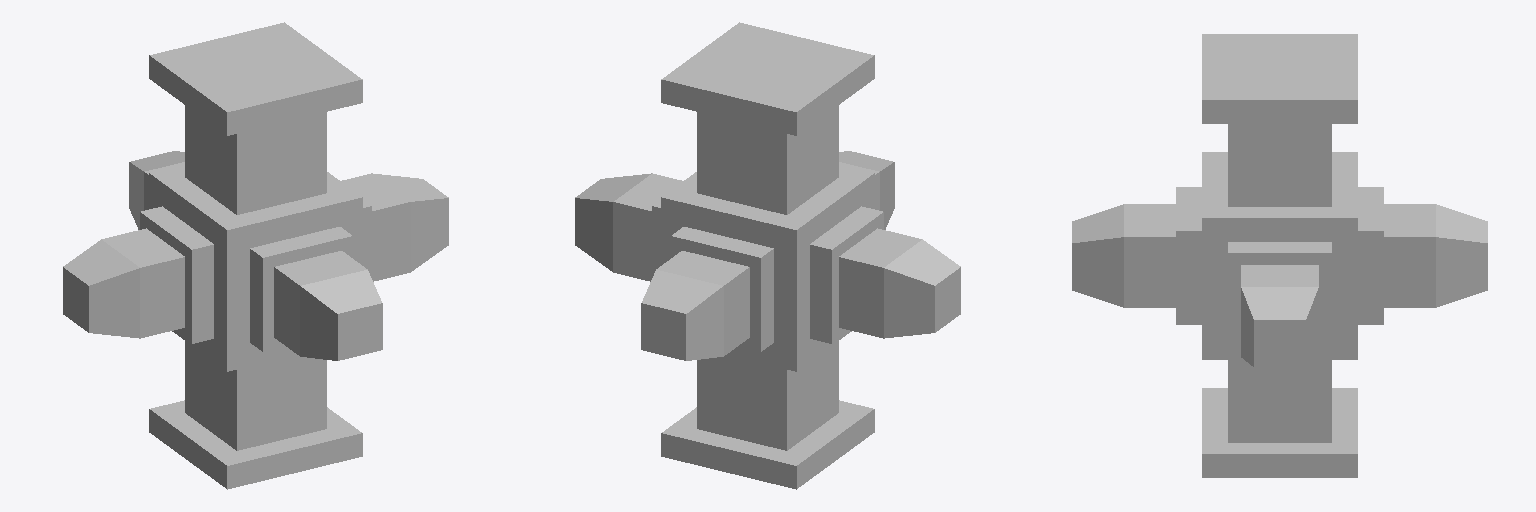
Rendered from nozzle.obj.
3 views of the same model, side by side, from view 1: azimuth 30°, elevation 25°; view 2: azimuth 150°, elevation 25°; view 3: azimuth 270°, elevation 25° (orthographic).
Parts seen in each view (by area): view 1: base2, connector, pipe2, pipe1, NozzleEndW, NozzleEndS, base1, NozzleEndE, NozzleJointW, NozzleJointS, NozzleEndN, NozzleJointE; view 2: base2, connector, pipe2, pipe1, NozzleEndW, NozzleEndN, base1, NozzleEndE, NozzleJointW, NozzleJointN, NozzleEndS, NozzleJointE; view 3: connector, base2, NozzleEndN, NozzleEndS, pipe2, base1, pipe1, NozzleEndE, NozzleJointE, NozzleJointN, NozzleJointS.
Boxes of the visible parts, x1,y1,x2,y2 form: base2: [149, 22, 362, 135]; connector: [149, 165, 362, 371]; pipe2: [185, 105, 326, 214]; pipe1: [185, 341, 326, 450]; NozzleEndW: [63, 228, 184, 338]; NozzleEndS: [274, 251, 382, 360]; base1: [149, 400, 362, 489]; NozzleEndE: [341, 173, 448, 281]; NozzleJointW: [140, 206, 213, 343]; NozzleJointS: [250, 227, 352, 351]; NozzleEndN: [129, 151, 184, 229]; NozzleJointE: [363, 200, 371, 277]; base2: [661, 22, 874, 135]; connector: [661, 165, 874, 371]; pipe2: [697, 105, 838, 214]; pipe1: [697, 341, 838, 450]; NozzleEndW: [839, 228, 960, 338]; NozzleEndN: [641, 251, 749, 360]; base1: [661, 400, 874, 489]; NozzleEndE: [575, 173, 682, 281]; NozzleJointW: [810, 206, 883, 343]; NozzleJointN: [671, 227, 773, 351]; NozzleEndS: [839, 151, 894, 229]; NozzleJointE: [652, 200, 660, 277]; connector: [1202, 152, 1357, 359]; base2: [1202, 34, 1357, 123]; NozzleEndN: [1384, 204, 1487, 307]; NozzleEndS: [1072, 204, 1175, 307]; pipe2: [1228, 124, 1331, 206]; base1: [1202, 388, 1357, 477]; pipe1: [1228, 360, 1331, 442]; NozzleEndE: [1241, 265, 1318, 367]; NozzleJointE: [1228, 242, 1331, 346]; NozzleJointN: [1358, 187, 1383, 324]; NozzleJointS: [1176, 187, 1201, 324].
Bounding box in the file's own units: 1 × 1 × 1.